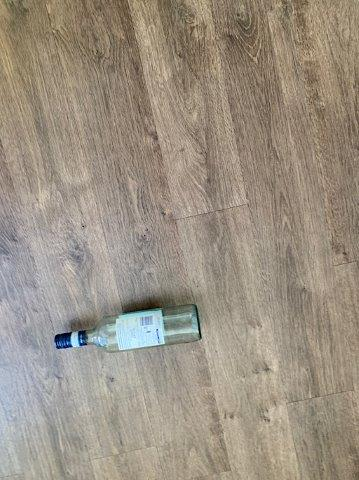botolkaca: (54, 306, 202, 352)
